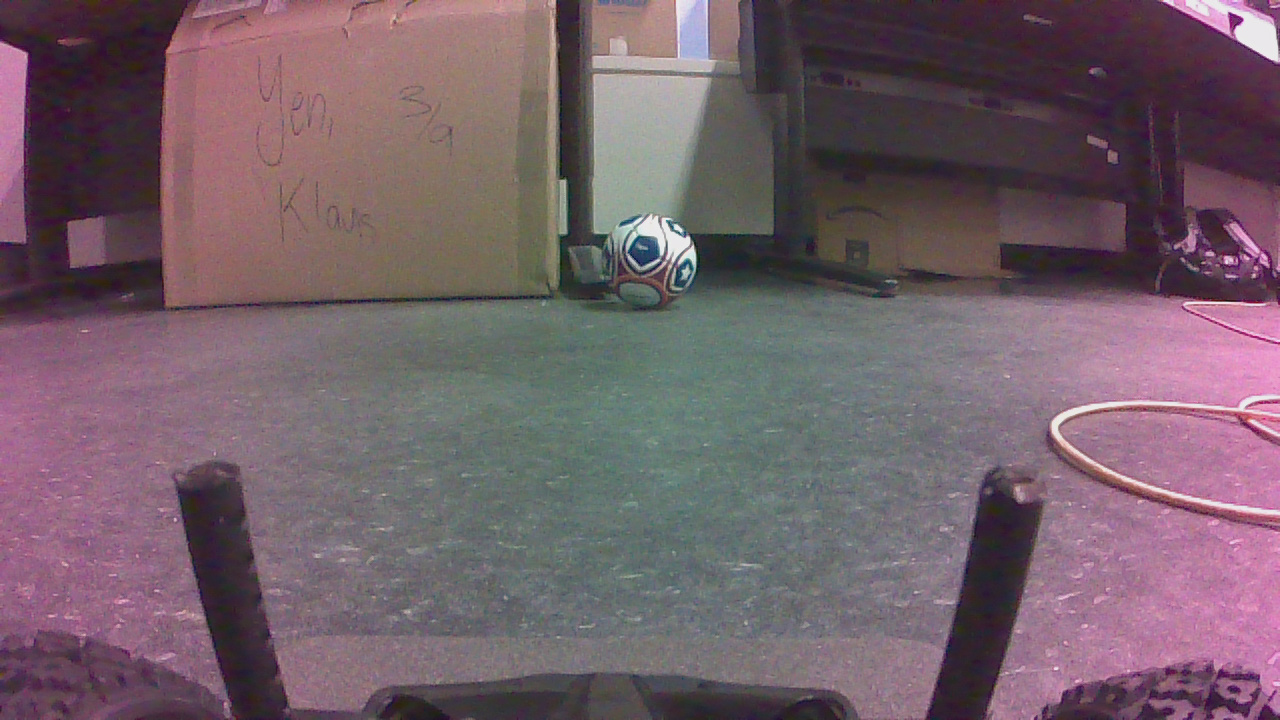ball: (602, 215, 702, 315)
